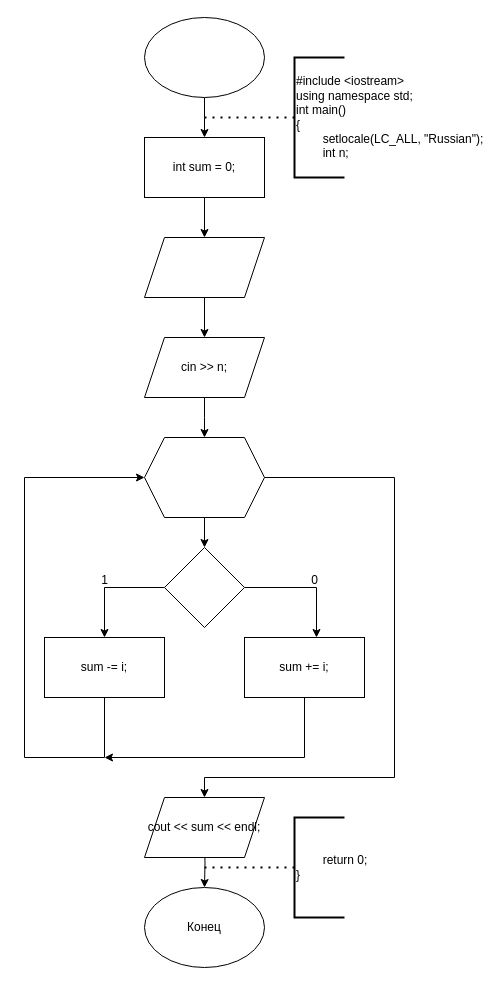
Image size: 501x985. Some labels were removed from this diagram. The shapes that lost their labels are listed below. From the top down, each one's centre as x and y in pixels, then its label:
pixel 204 57: Начало
pixel 204 267: cout << "Введите число: \n";
pixel 204 477: for (int i = 1; i <= n; i++)
pixel 204 587: if (i % 3 == 0)
